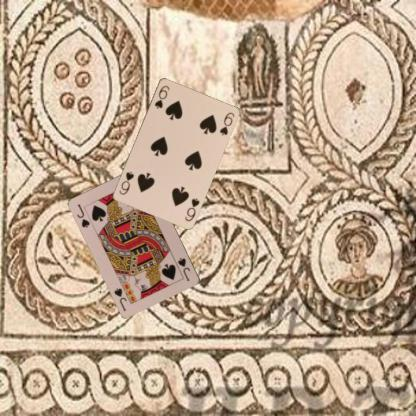6s: (152, 82, 170, 110), (182, 196, 200, 223)
Js: (74, 202, 92, 229), (176, 256, 191, 283)
